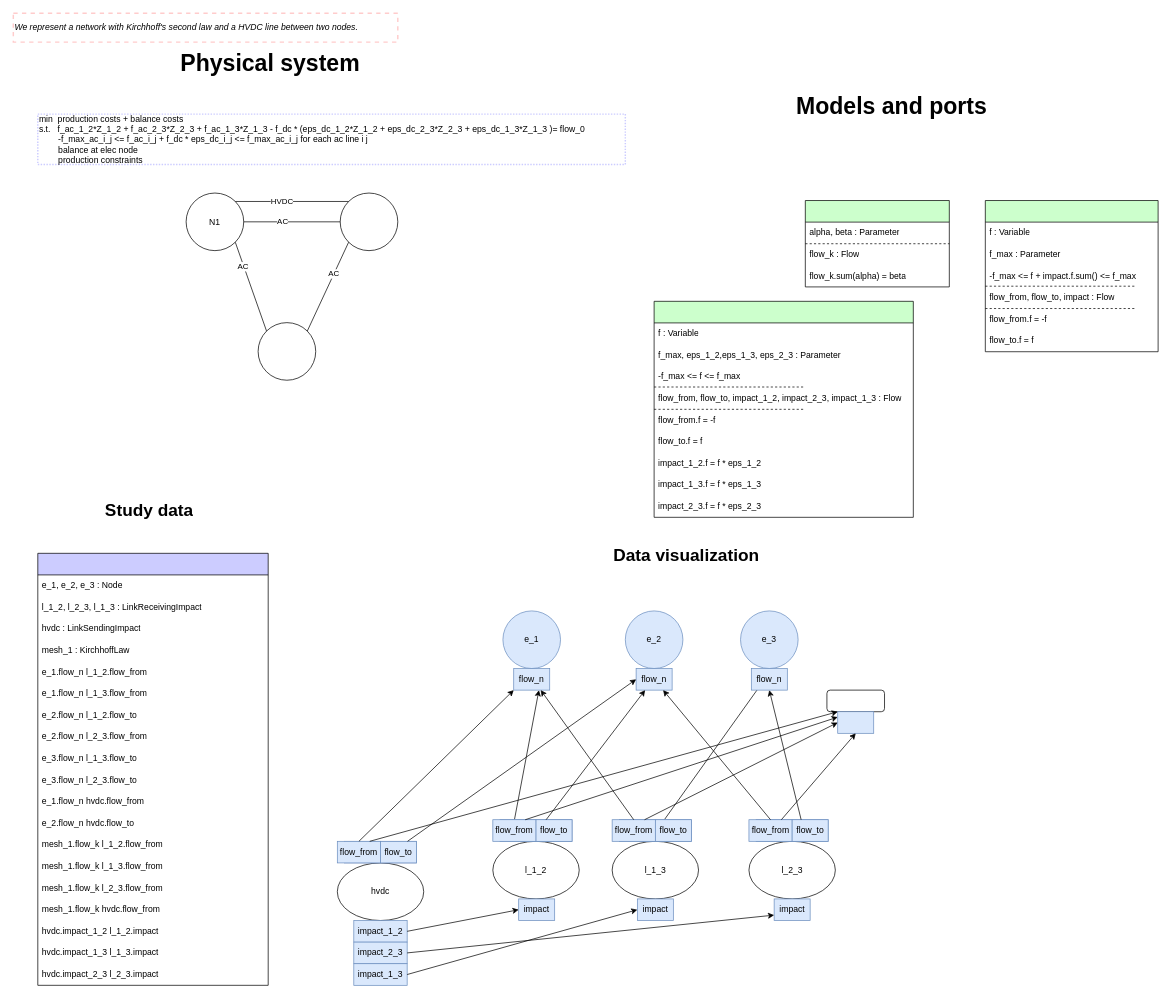
Image size: 1171x998. Some labels were removed from this diagram. The box of each missing label's shape, as (x1, y1, x2, y2) in pixels:
File "network.txt": (37, 553, 268, 985)
flow_k: (837, 711, 874, 733)
KirchhoffLaw : Model: (805, 200, 949, 287)
LinkReceivingImpact : Model: (985, 200, 1158, 352)
LinkSendingImpact : Model: (653, 301, 913, 517)
mesh_1: (826, 689, 885, 712)
N2: (339, 192, 398, 251)
N3: (257, 322, 316, 380)
